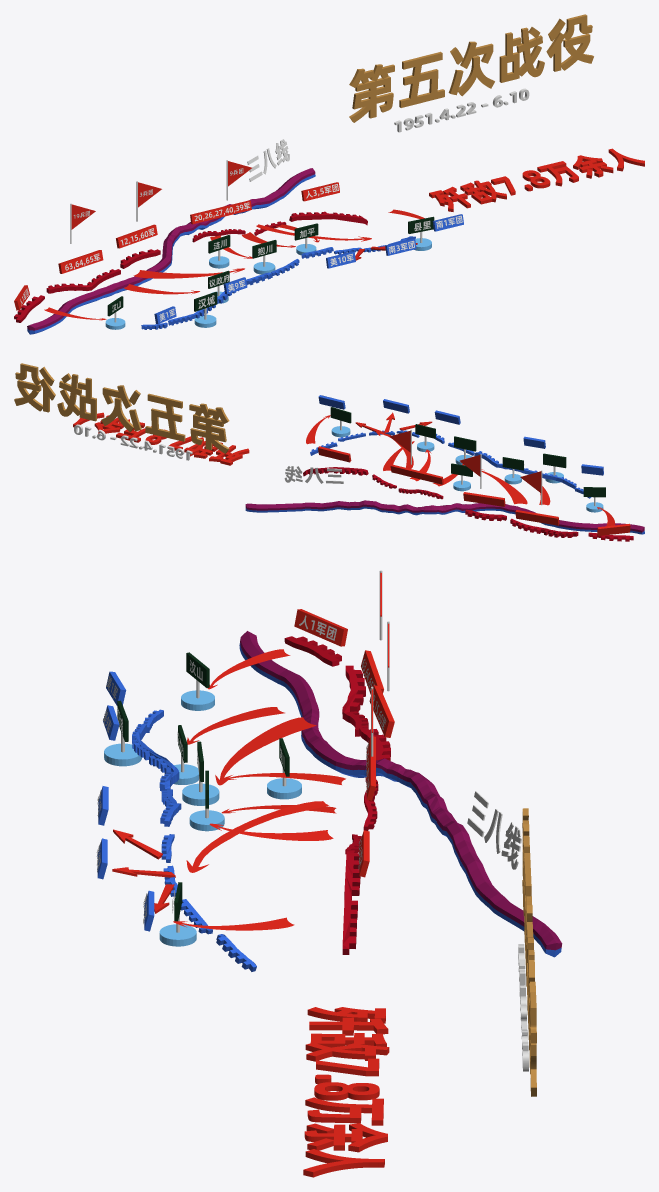
Rendered from 5-animate.glb.
The picture shows the model from 3 angles, top to bottom: view 1: azimuth 30°, elevation 25°; view 2: azimuth 150°, elevation 25°; view 3: azimuth 270°, elevation 25°; orthographic projection. The views are drawn at different scales.
Visible parts, largest first — view 1: 文本.031, 文本.033, 38line3, 文本.032, 11.005, 2.005, 柱体.022, 2.009, 2.015, 柱体.025, 文本.030, 柱体.028 (+5 smaller); view 2: 文本.031, 38line3, 文本.033, 文本.032, 文本.030, 2.015, 11.005, 2.005, 柱体.028, 11.003, 柱体.027, 柱体.022 (+12 smaller); view 3: 文本.033, 38line3, 文本.031, 2.009, 文本.030, tm.003, 贝塞尔曲线.022, 柱体.024, 2.005, 2.015, 1.001, 柱体.022 (+4 smaller).
Boxes of the visible parts, <box> form: 文本.031: <box>349,14,593,122</box>; 文本.033: <box>429,148,644,211</box>; 38line3: <box>27,168,315,334</box>; 文本.032: <box>394,88,529,132</box>; 11.005: <box>190,200,251,224</box>; 2.005: <box>46,269,120,293</box>; 柱体.022: <box>194,292,217,327</box>; 2.009: <box>289,211,367,225</box>; 2.015: <box>168,272,272,325</box>; 柱体.025: <box>252,240,276,274</box>; 文本.030: <box>247,139,289,181</box>; 柱体.028: <box>408,216,434,250</box>; 文本.031: <box>14,363,229,453</box>; 38line3: <box>245,500,644,534</box>; 文本.033: <box>73,410,249,465</box>; 文本.032: <box>74,424,192,460</box>; 文本.030: <box>284,466,343,483</box>; 2.015: <box>474,451,576,489</box>; 11.005: <box>390,464,443,484</box>; 2.005: <box>510,518,578,537</box>; 柱体.028: <box>330,407,351,437</box>; 11.003: <box>515,510,559,525</box>; 柱体.027: <box>502,457,524,484</box>; 柱体.022: <box>543,453,566,483</box>; 文本.033: <box>303,1007,389,1177</box>; 38line3: <box>239,631,562,957</box>; 文本.031: <box>522,808,536,1096</box>; 2.009: <box>342,850,360,954</box>; 文本.030: <box>467,791,521,869</box>; tm.003: <box>215,717,316,785</box>; 贝塞尔曲线.022: <box>186,801,328,872</box>; 柱体.024: <box>181,652,214,710</box>; 2.005: <box>342,665,368,736</box>; 2.015: <box>132,724,179,791</box>; 1.001: <box>294,609,347,646</box>; 柱体.022: <box>104,700,141,766</box>.
Bounding box in the file's own units: 52.53 × 8.27 × 18.96.
